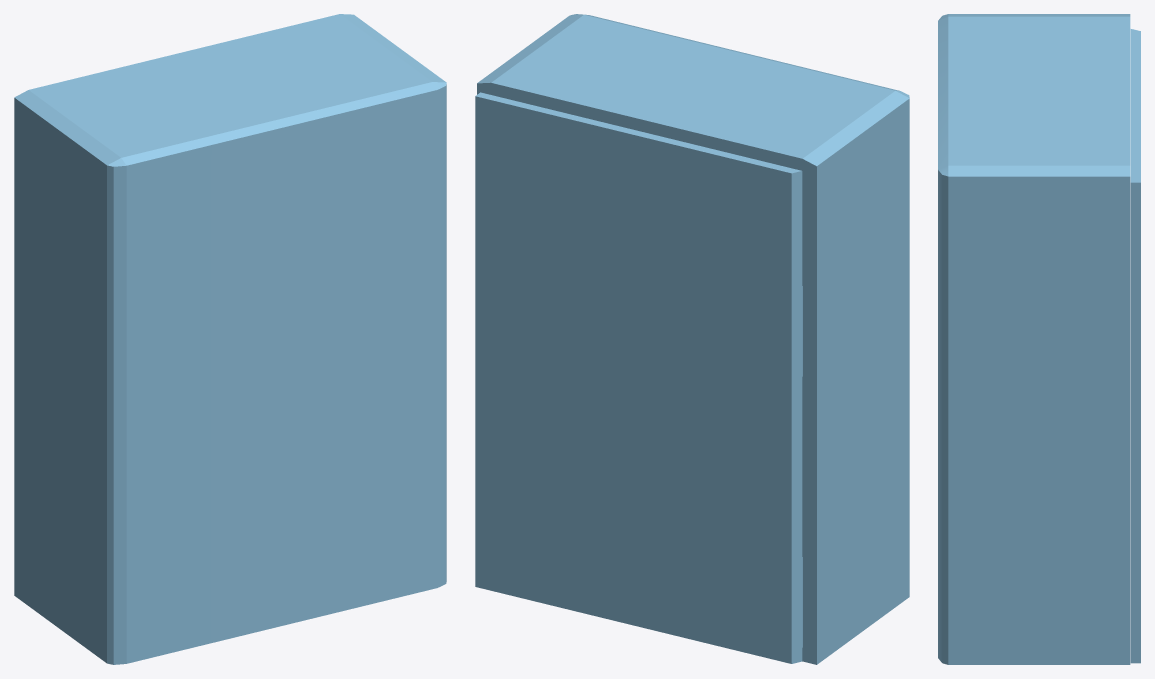
Rendered from Prop_kitchenT_closet3.FBX.
3 views of the same model, side by side, from view 1: azimuth 30°, elevation 25°; view 2: azimuth 150°, elevation 25°; view 3: azimuth 270°, elevation 25° (orthographic). The views are drawn at different scales.
Parts seen in each view (by area): view 1: Prop_closet_kitch003; view 2: Prop_closetkit_door006, Prop_closet_kitch003; view 3: Prop_closet_kitch003, Prop_closetkit_door006.
Part boxes in pixels (x1,y1,x2,y2): Prop_closet_kitch003: (14, 14, 446, 664); Prop_closetkit_door006: (475, 92, 802, 663); Prop_closet_kitch003: (477, 14, 909, 664); Prop_closet_kitch003: (938, 14, 1130, 664); Prop_closetkit_door006: (1130, 29, 1140, 663).
Size of the model in its own units: 28.14 by 14.84 by 39.76.
